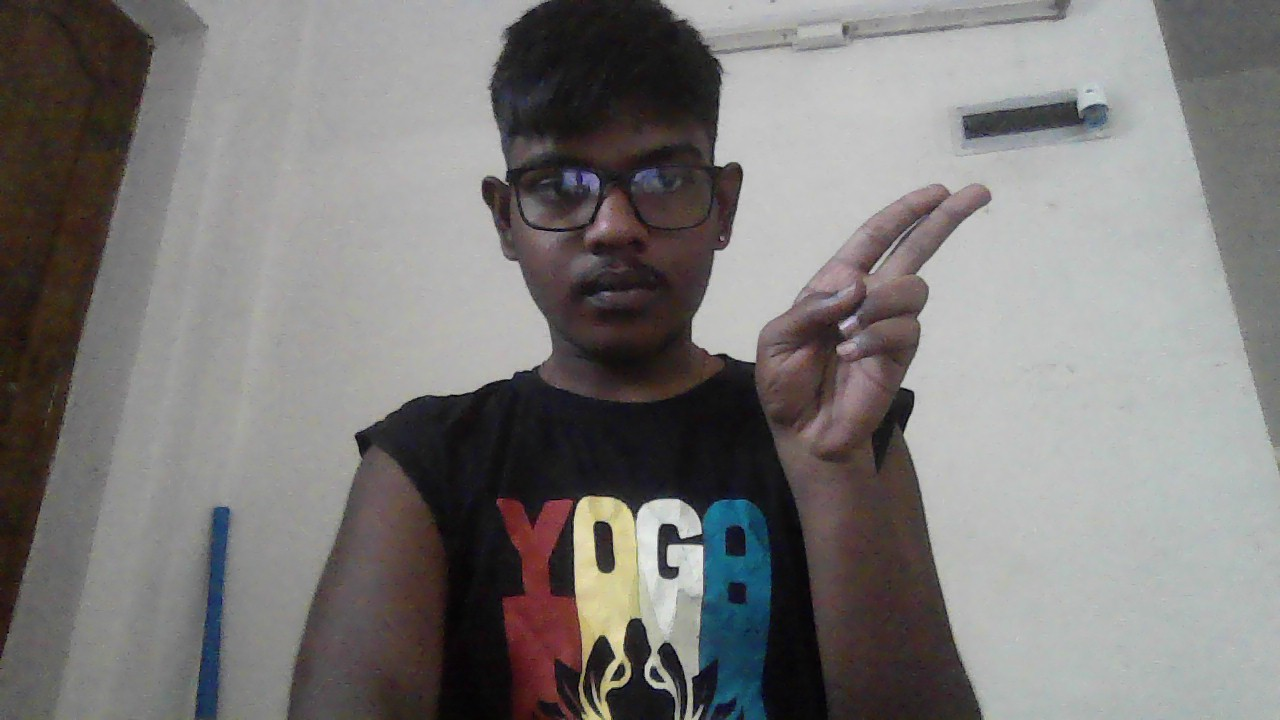H: (754, 182, 993, 469)
